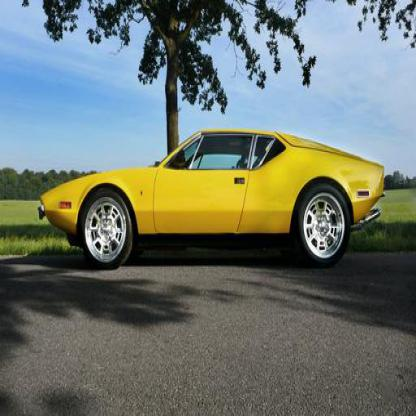Tire: (296, 181, 351, 267), (79, 187, 134, 269)
